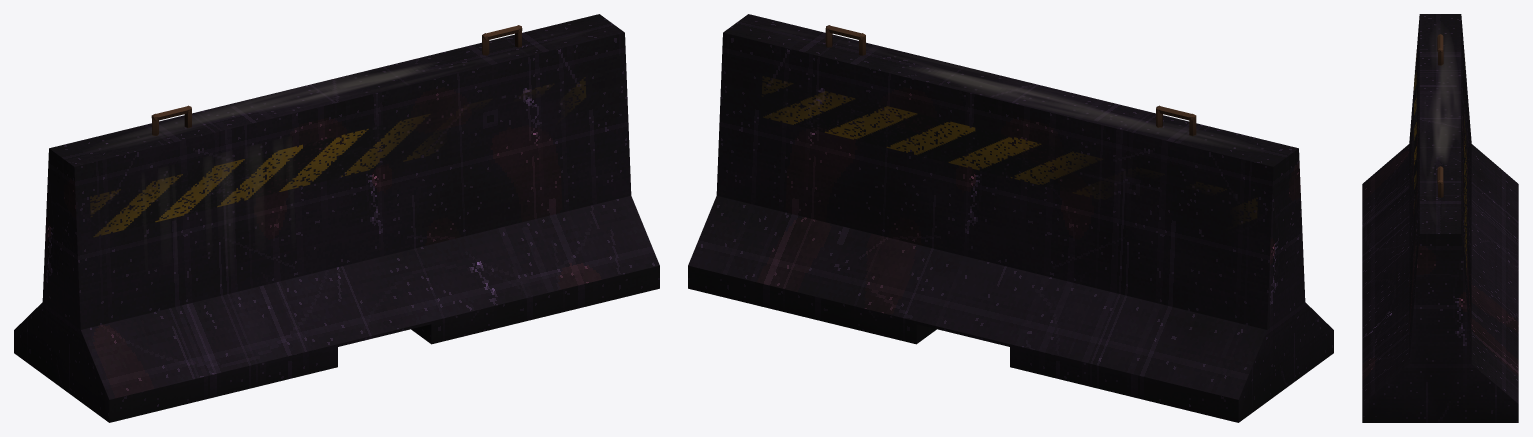
Rendered from barrier_concrete.glb.
3 renders of one model, left to right at view 1: azimuth 30°, elevation 25°; view 2: azimuth 150°, elevation 25°; view 3: azimuth 270°, elevation 25°, orthographic. The views are drawn at different scales.
Visible parts, largest first — view 1: body, decals; view 2: body, decals; view 3: body, decals.
Part boxes in pixels (x1,y1,x2,y2): body: (14,14,659,422); decals: (90,65,586,237); body: (688,14,1333,422); decals: (761,67,1257,237); body: (1362,14,1518,422); decals: (1414,38,1466,271).
Size of what is drawn, in the model's own units: 2 by 0.8734 by 0.6.
5 materials, 4 textured.
